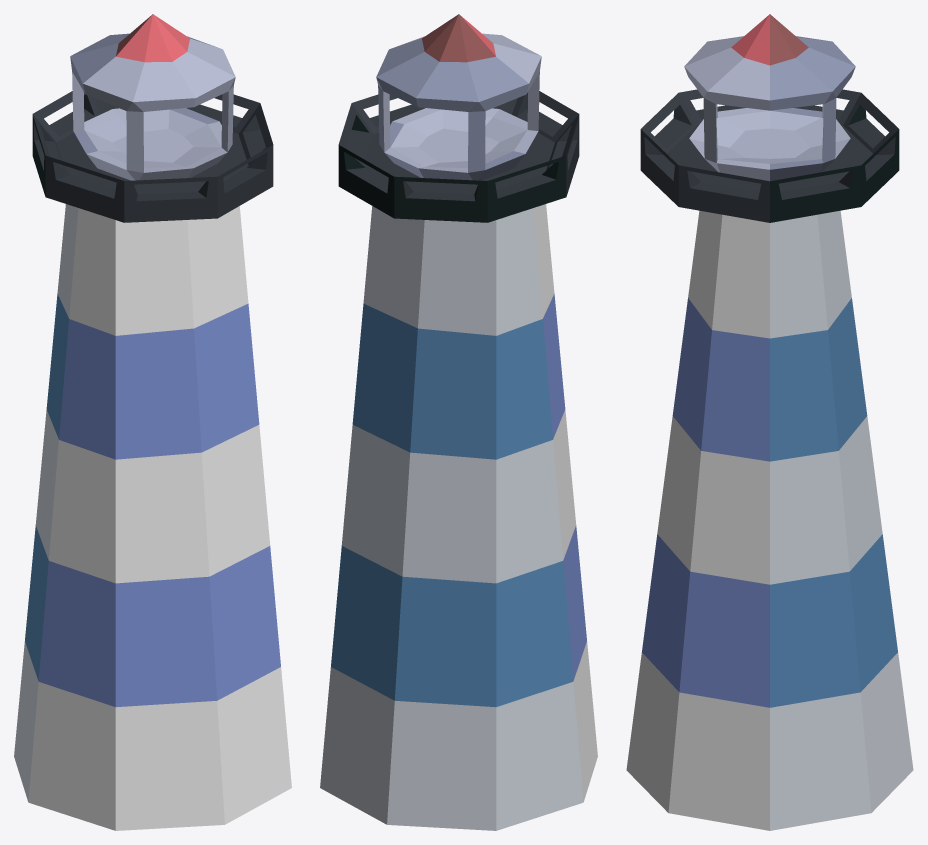
Rendered from Lighthouse.fbx.
The picture shows the model from 3 angles, left to right: view 1: azimuth 30°, elevation 25°; view 2: azimuth 150°, elevation 25°; view 3: azimuth 270°, elevation 25°; orthographic projection.
Visible parts, largest first — view 1: Cylinder; view 2: Cylinder; view 3: Cylinder.
Part boxes in pixels (x1,y1,x2,y2): Cylinder: [14, 14, 291, 830]; Cylinder: [320, 14, 597, 830]; Cylinder: [626, 14, 913, 830].
Bounding box in the file's own units: 500 × 1454 × 500.
